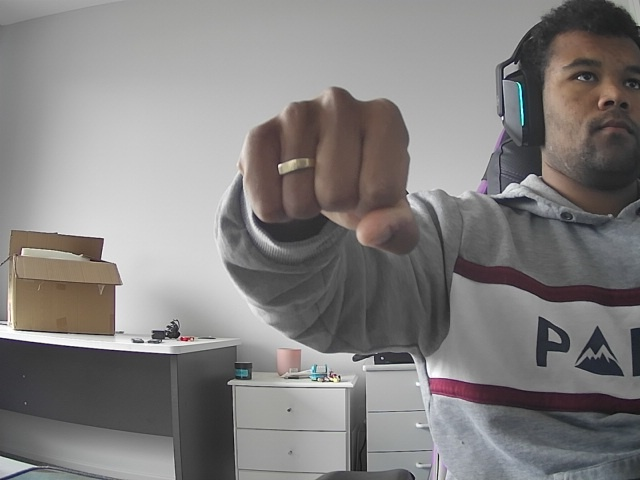Yes: (186, 59, 452, 263)
